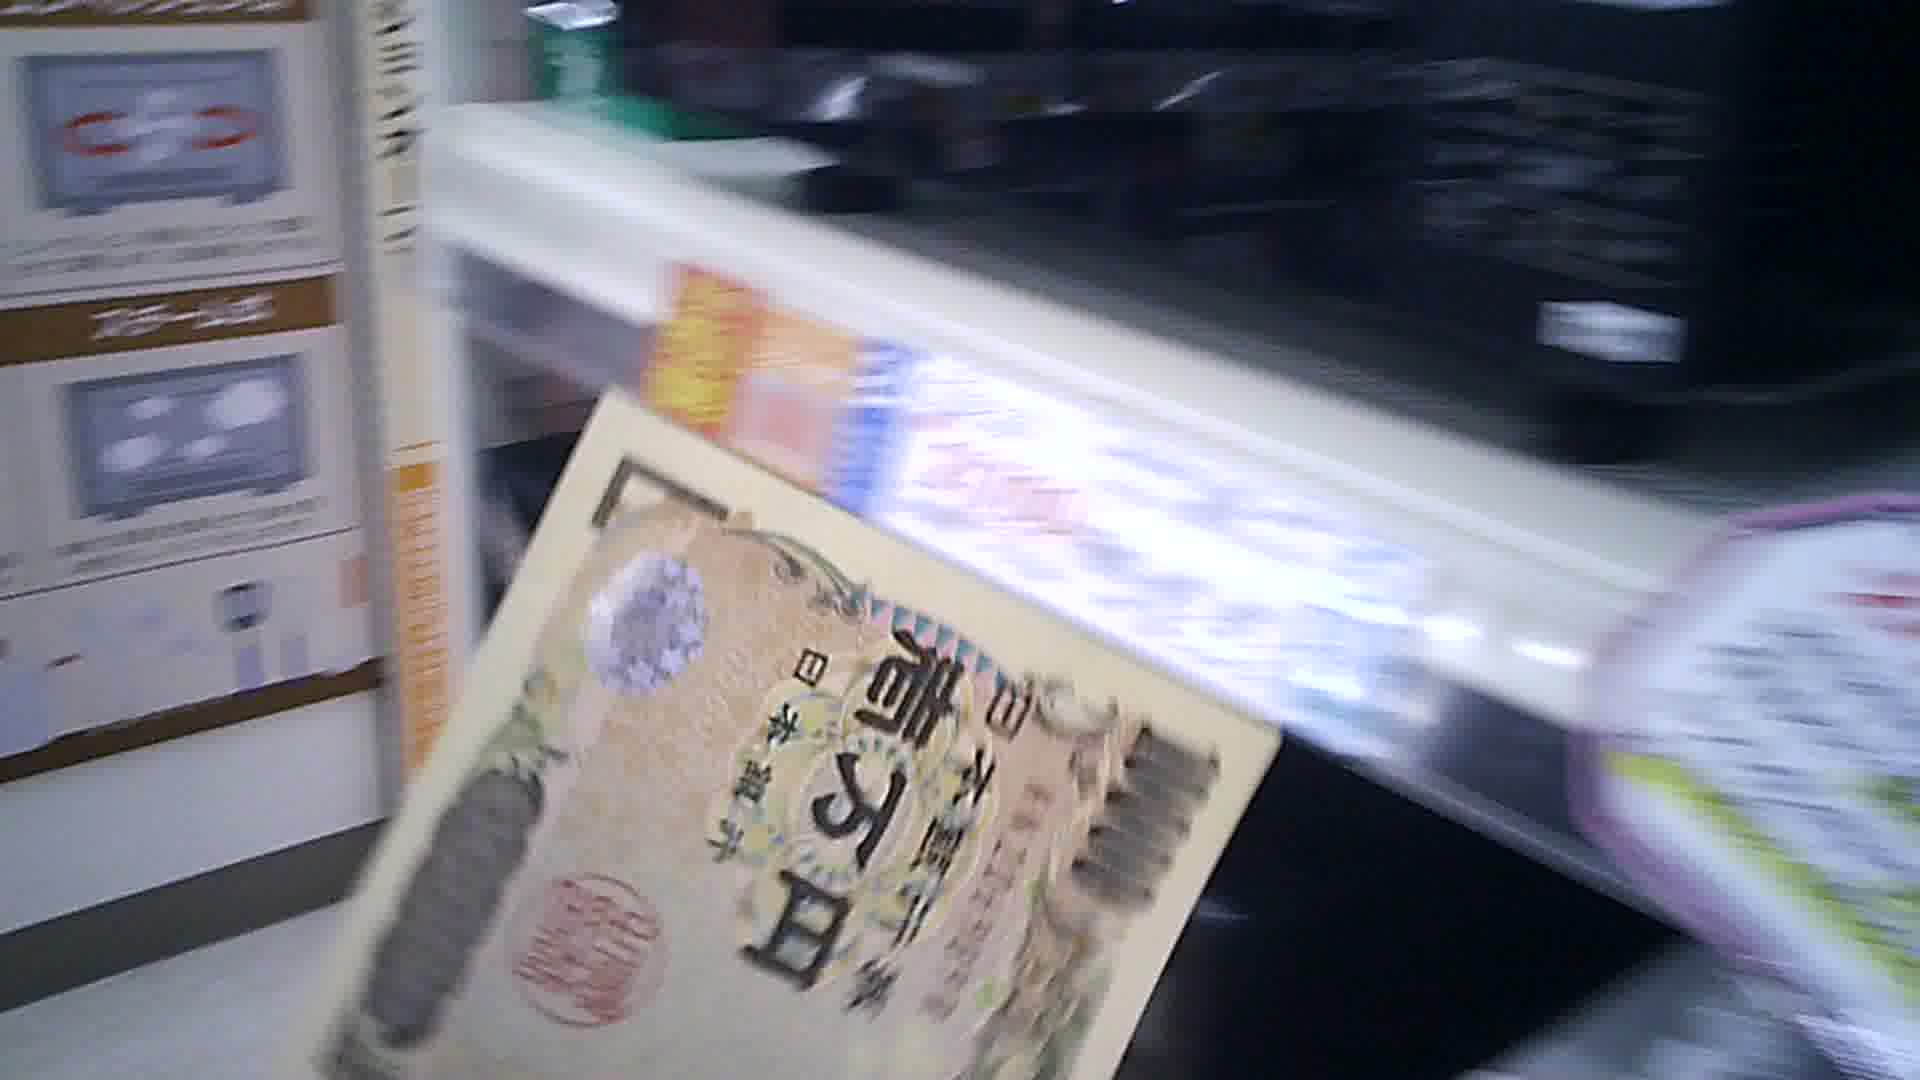10,000 Yen: (270, 418, 1279, 1079)
